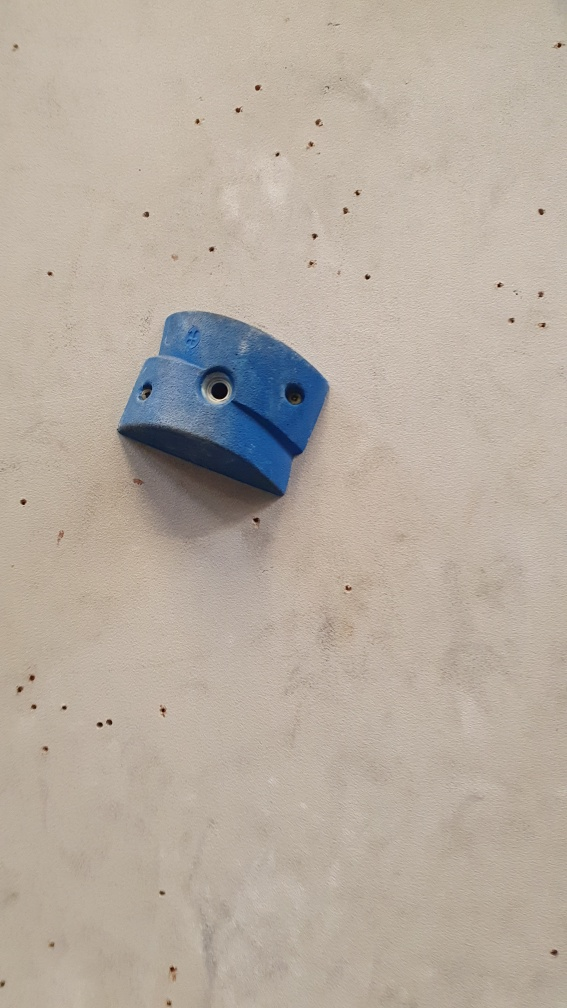Pinch: (117, 305, 333, 496)
